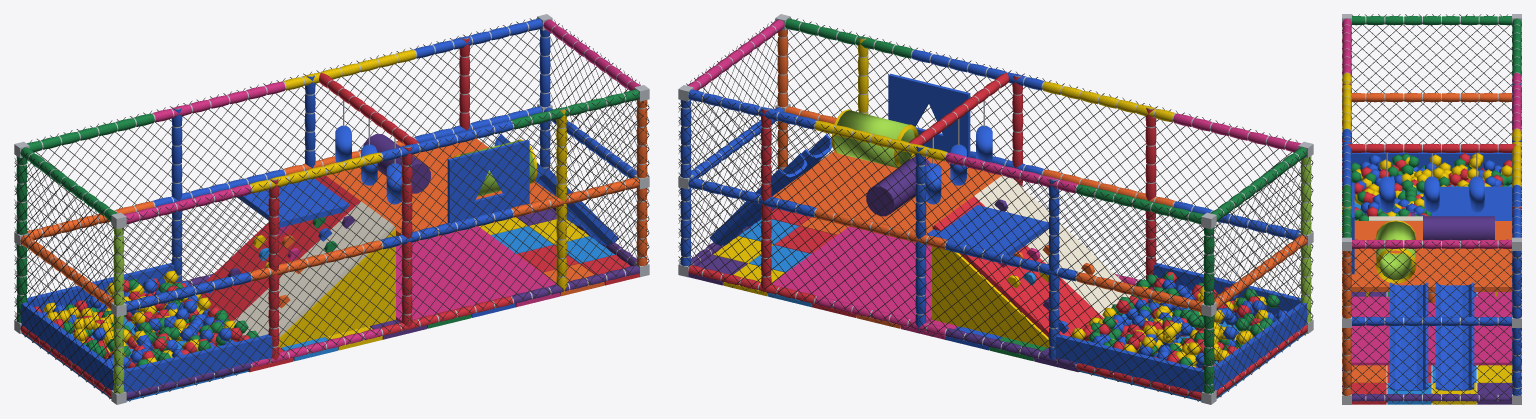
File: web.glb
3 views of the same model, side by side, from view 1: azimuth 30°, elevation 25°; view 2: azimuth 150°, elevation 25°; view 3: azimuth 270°, elevation 25° (orthographic). The views are drawn at different scales.
Visible parts, largest first — view 1: plataforma, vinil_tubo, rede, bolinhas, tatame, metal, escorregador_plastico; view 2: plataforma, vinil_tubo, rede, bolinhas, tatame, metal, escorregador_plastico; view 3: plataforma, vinil_tubo, rede, escorregador_plastico, bolinhas, tatame, metal.
Part boxes in pixels (<box>): plataforma: <box>17,125,555,401</box>; vinil_tubo: <box>16,18,647,399</box>; rede: <box>14,17,649,401</box>; bolinhas: <box>33,270,258,368</box>; tatame: <box>164,208,639,371</box>; metal: <box>14,14,649,404</box>; escorregador_plastico: <box>208,134,618,308</box>; plataforma: <box>772,73,1310,401</box>; vinil_tubo: <box>680,18,1311,399</box>; rede: <box>678,17,1313,401</box>; bolinhas: <box>1071,271,1287,368</box>; tatame: <box>688,208,1131,371</box>; metal: <box>678,14,1313,404</box>; escorregador_plastico: <box>709,134,1094,333</box>; plataforma: <box>1351,152,1512,365</box>; vinil_tubo: <box>1342,16,1521,402</box>; rede: <box>1342,14,1521,404</box>; escorregador_plastico: <box>1389,211,1474,390</box>; bolinhas: <box>1352,153,1511,220</box>; tatame: <box>1351,292,1512,404</box>; metal: <box>1342,14,1521,404</box>.
Bounding box in the file's own units: 6 × 2 × 2.
Materials: 7 (7 with a texture image).
